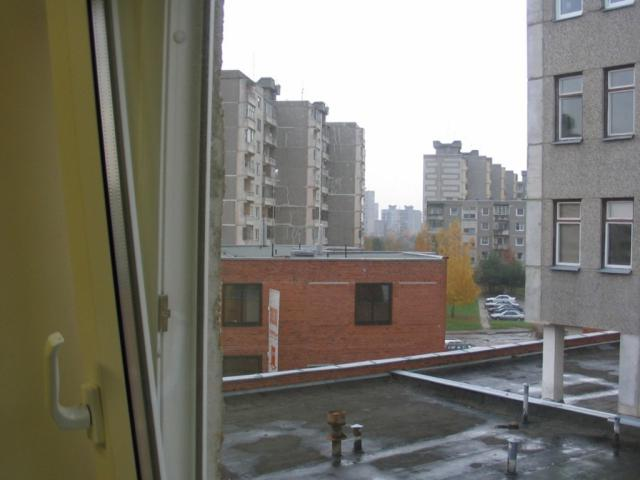Door-handle: (42, 330, 105, 446)
